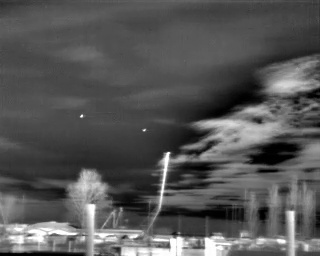BIRD: (140, 126, 148, 134)
